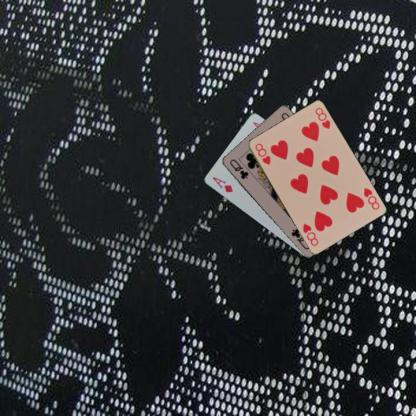8h: (360, 184, 380, 211), (252, 140, 271, 166)
Ad: (210, 174, 234, 193)
Qc: (227, 156, 250, 180)
